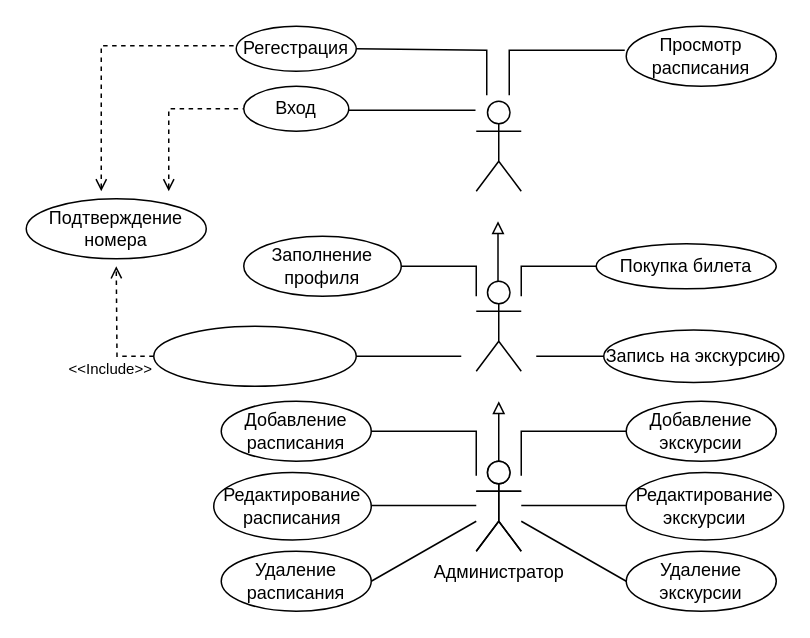
This 810x638 diagram has some shape labels left out. Here are the shapes that lost their labels. From the top down, the centre of each, then its label:
At pixel 498 145: "Пользователь".
At pixel 498 325: "Аутифицированный".
At pixel 254 355: "Редактирование профиля".
